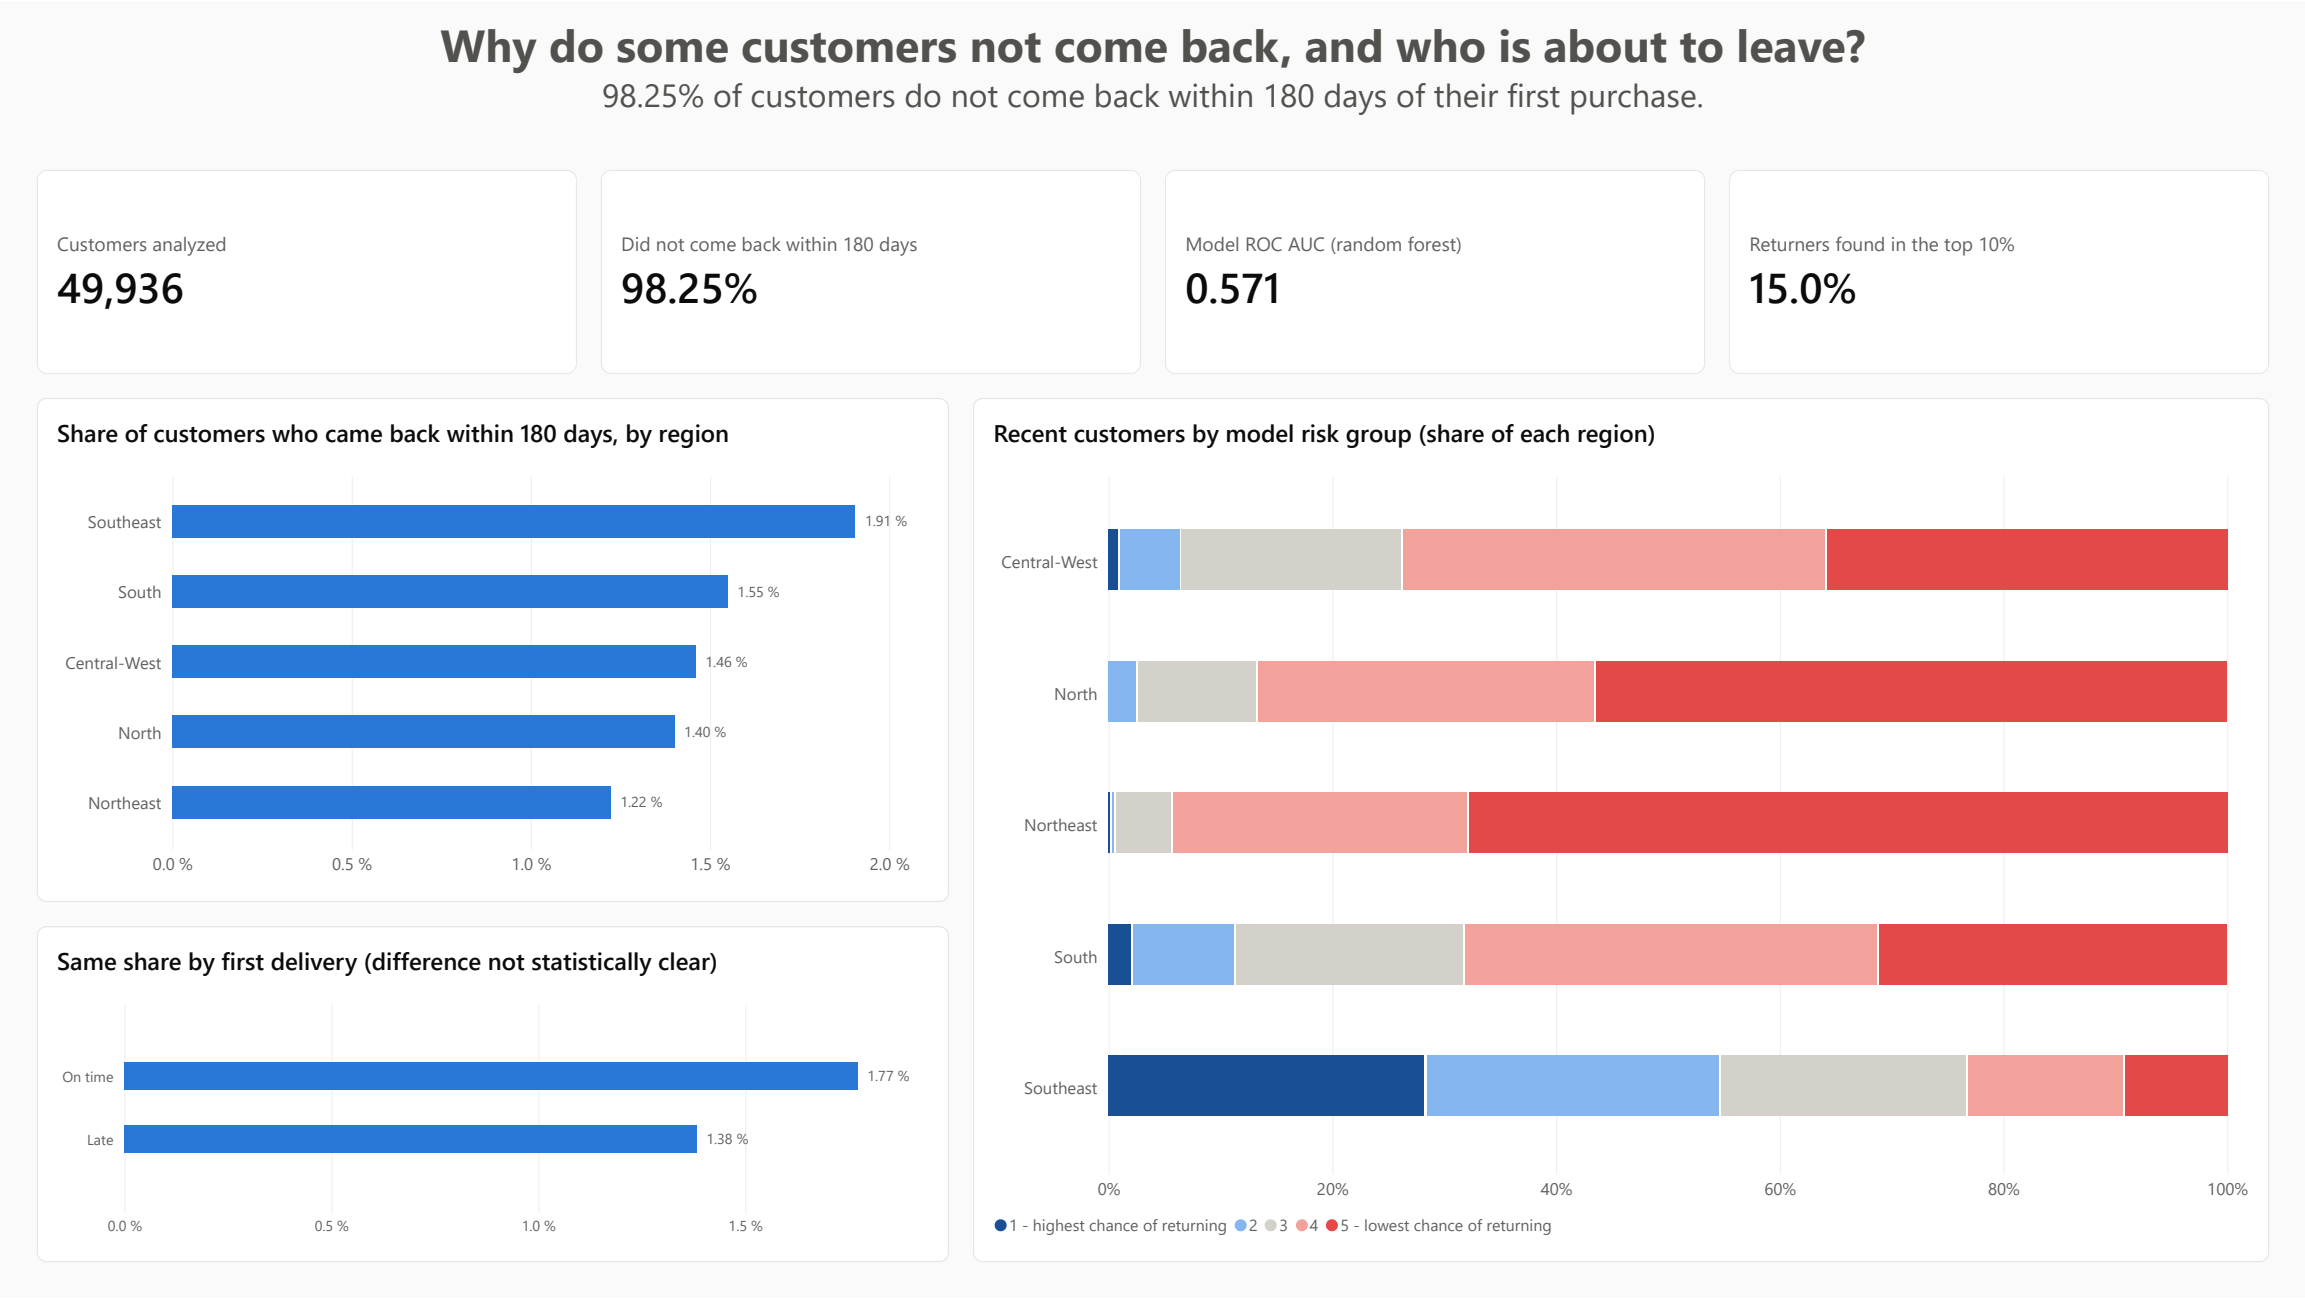

This screenshot's page, from the dashboard's own definition file:
{"tool":"powerbi","page":{"name":"Customers","canvas":[1920,1080],"ordinal":3},"visuals":[{"type":"textbox","box":[30,10,1860,115],"z":0},{"type":"cardVisual","fields":{"Data":["churn_dataset.Customers analyzed"]},"box":[30,140,450,170],"z":1},{"type":"cardVisual","fields":{"Data":["churn_dataset.Did not come back within 180 days"]},"box":[500,140,450,170],"z":2},{"type":"cardVisual","fields":{"Data":["churn_model_metrics.Model ROC AUC (random forest)"]},"box":[970,140,450,170],"z":3},{"type":"cardVisual","fields":{"Data":["churn_model_metrics.Returners found in the top 10%"]},"box":[1440,140,450,170],"z":4},{"type":"barChart","title":"Share of customers who came back within 180 days, by region","fields":{"Category":["churn_dataset.region"],"Y":["churn_dataset.Return rate"]},"box":[30,330,760,420],"z":5},{"type":"barChart","title":"Same share by first delivery (difference not statistically clear)","fields":{"Category":["churn_dataset.delivery_status"],"Y":["churn_dataset.Return rate"]},"box":[30,770,760,280],"z":6},{"type":"hundredPercentStackedBarChart","title":"Recent customers by model risk group (share of each region)","fields":{"Category":["customer_return_scores.region"],"Series":["customer_return_scores.risk_group"],"Y":["customer_return_scores.Recent customers"]},"box":[810,330,1080,720],"z":7}]}

Visuals, with their boxes in screenshot pixels (x1, y1, x2, y2), scaled from the page's 1920x1080 canvas onto the 2305x1299 screenshot:
textbox: 36,12,2269,150
cardVisual - churn_dataset.Customers analyzed: 36,168,576,373
cardVisual - churn_dataset.Did not come back within 180 days: 600,168,1140,373
cardVisual - churn_model_metrics.Model ROC AUC (random forest): 1165,168,1705,373
cardVisual - churn_model_metrics.Returners found in the top 10%: 1729,168,2269,373
"Share of customers who came back within 180 days, by region" barChart: 36,397,948,902
"Same share by first delivery (difference not statistically clear)" barChart: 36,926,948,1263
"Recent customers by model risk group (share of each region)" hundredPercentStackedBarChart: 972,397,2269,1263
